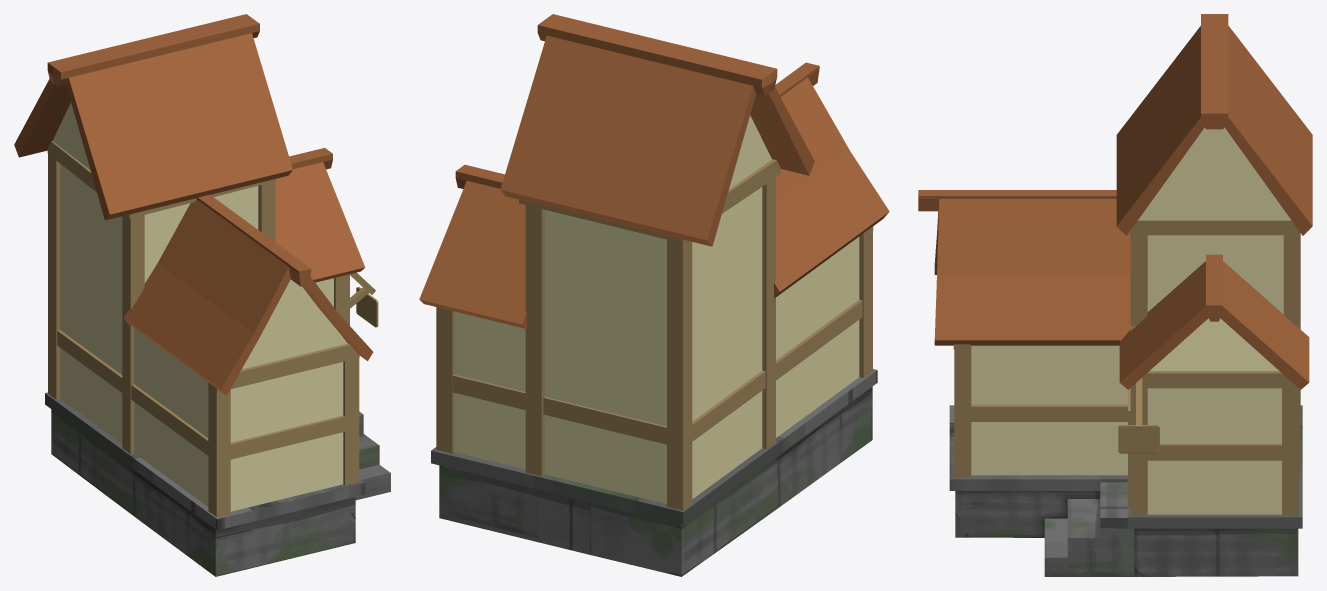
File: Fazenda.fbx
3 views of the same model, side by side, from view 1: azimuth 30°, elevation 25°; view 2: azimuth 150°, elevation 25°; view 3: azimuth 270°, elevation 25° (orthographic). The views are drawn at different scales.
Parts seen in each view (by area): view 1: Cube.031; view 2: Cube.031; view 3: Cube.031.
Boxes of the visible parts, x1,y1,x2,y2 form: Cube.031: [14, 14, 390, 576]; Cube.031: [419, 14, 889, 576]; Cube.031: [918, 14, 1312, 576].
Bounding box in the file's own units: 1508 × 2144 × 1758.
4 materials, 1 textured.
